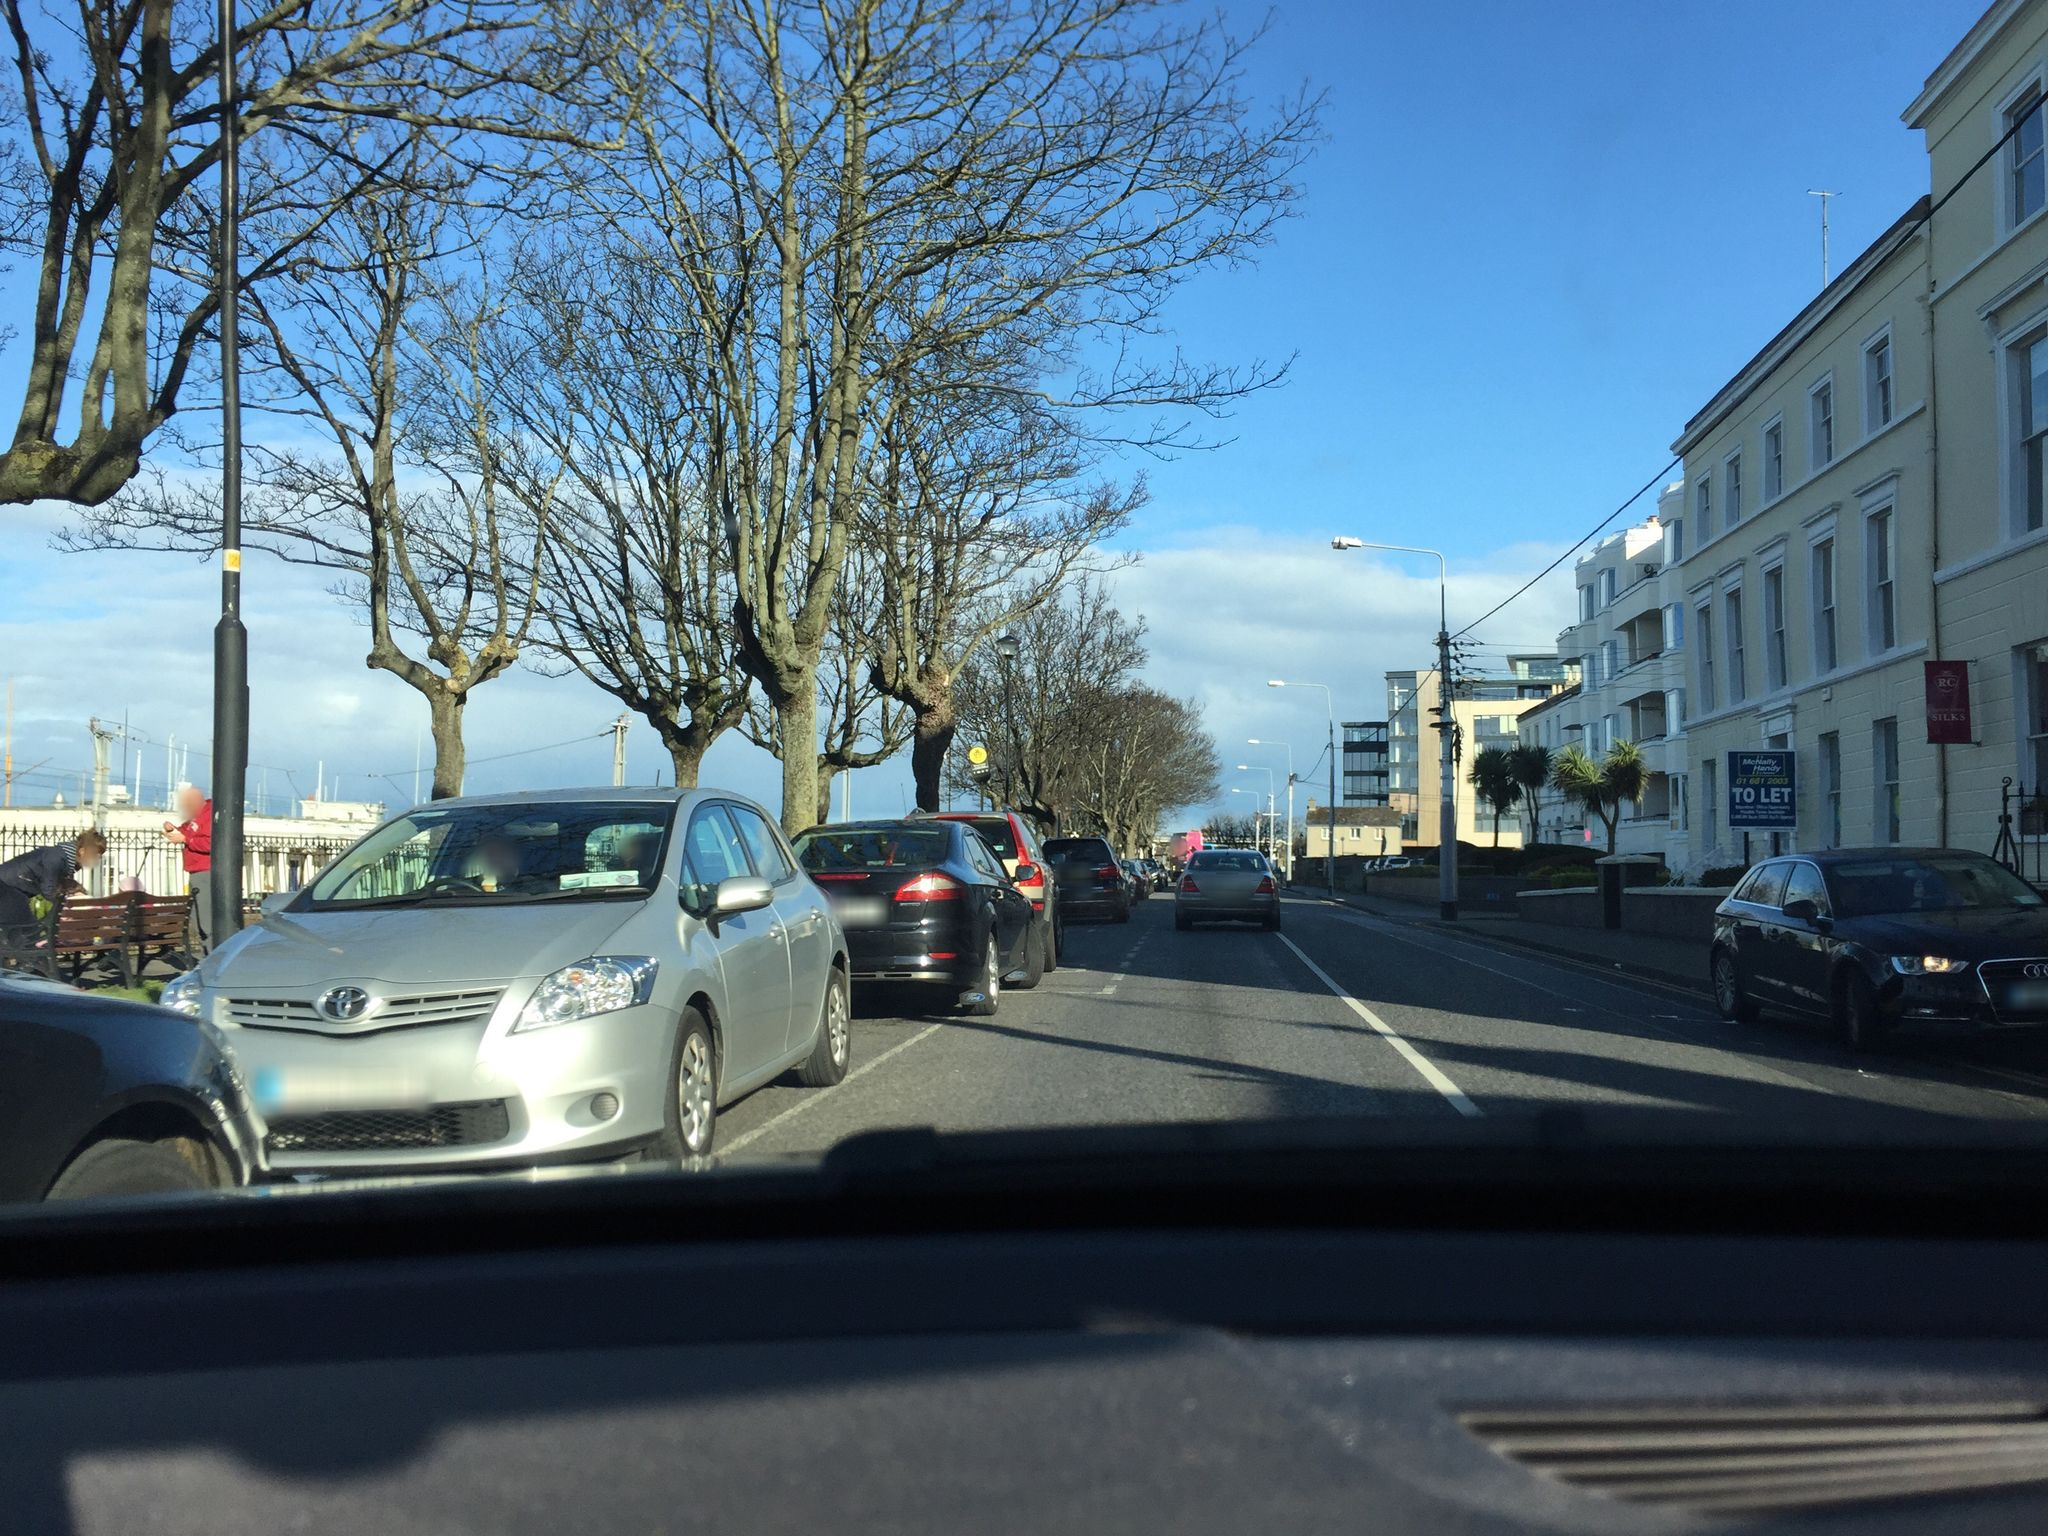property sign: (1717, 737, 1817, 837)
